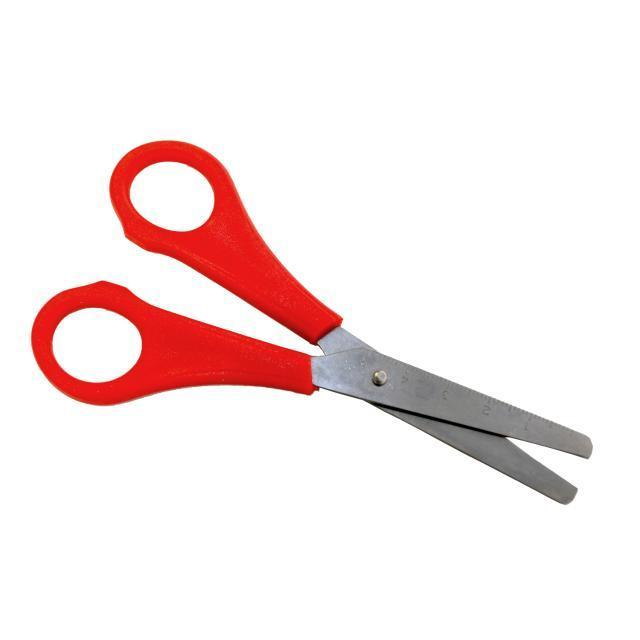scissor: (31, 144, 595, 506)
